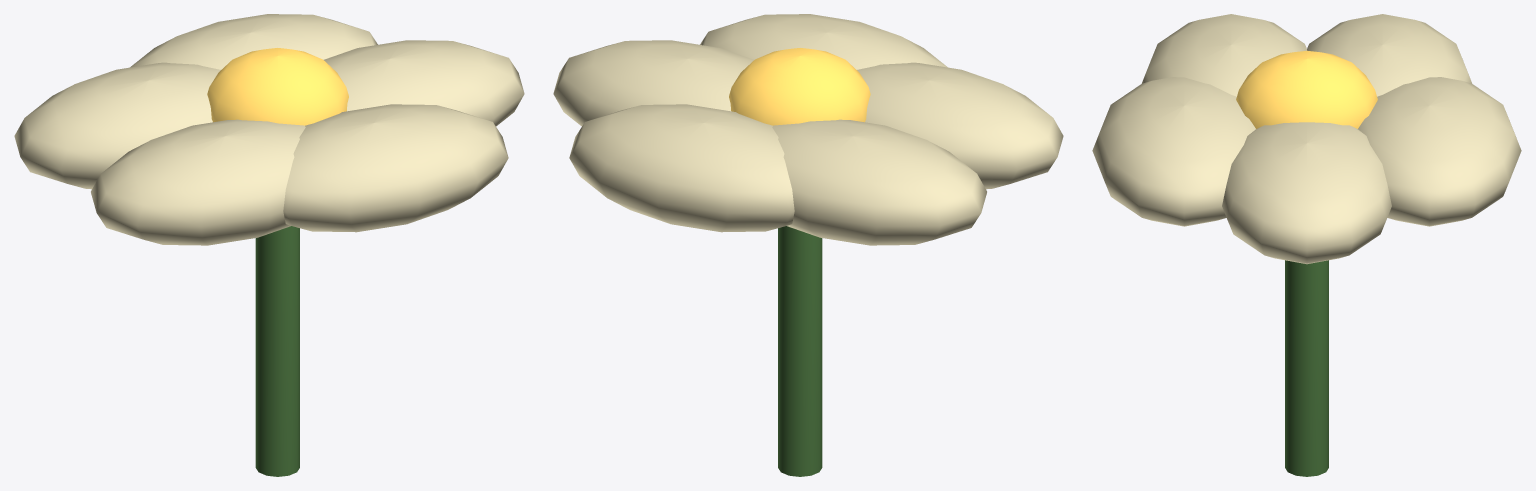
Rendered from flower.glb.
The picture shows the model from 3 angles, left to right: view 1: azimuth 30°, elevation 25°; view 2: azimuth 150°, elevation 25°; view 3: azimuth 270°, elevation 25°; orthographic projection.
Visible parts, largest first — view 1: petal (×5), stem, center; view 2: petal (×5), stem, center; view 3: petal (×5), stem, center.
Part boxes in pixels (left/top/right/bottom): petal (×5): left=14, top=14, right=524, bottom=245; stem: left=255, top=226, right=299, bottom=476; center: left=207, top=48, right=348, bottom=125; petal (×5): left=553, top=14, right=1063, bottom=245; stem: left=778, top=226, right=822, bottom=476; center: left=729, top=48, right=870, bottom=125; petal (×5): left=1092, top=14, right=1521, bottom=264; stem: left=1285, top=260, right=1328, bottom=476; center: left=1236, top=50, right=1377, bottom=128.
Size of the model in its own units: 0.2866 by 0.245 by 0.2331.
